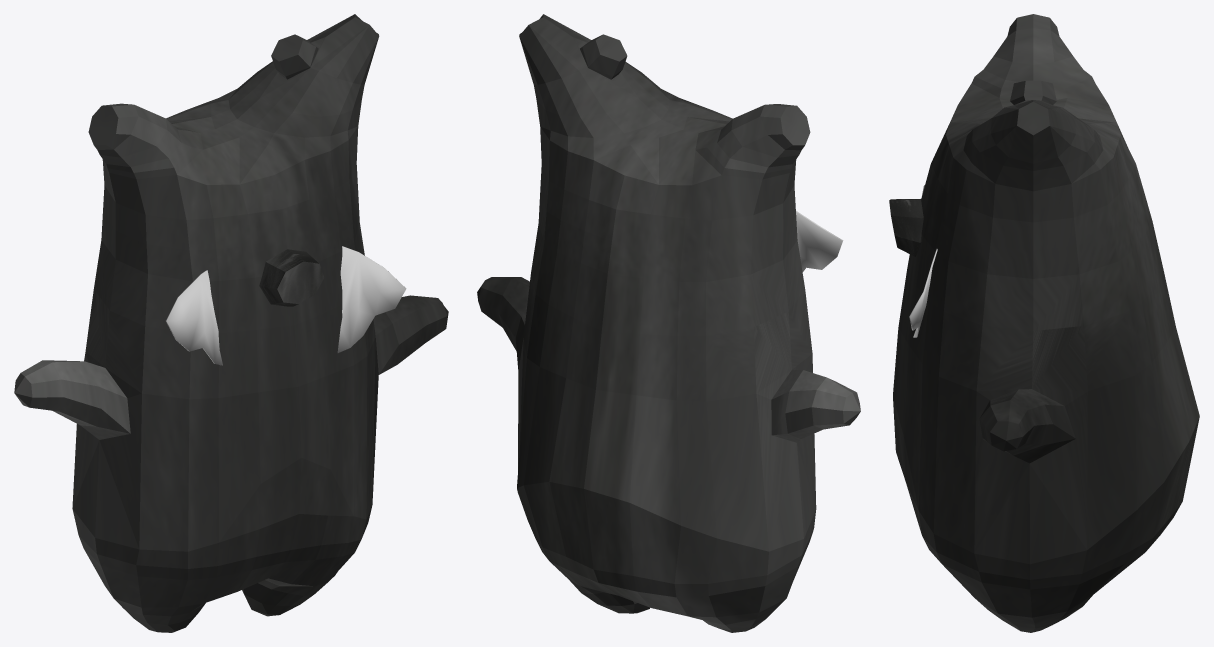
Rendered from frame_0005.obj.
3 renders of one model, left to right at view 1: azimuth 30°, elevation 25°; view 2: azimuth 150°, elevation 25°; view 3: azimuth 270°, elevation 25°, orthographic.
Visible parts, largest first — view 1: korok, leaf, nose; view 2: korok, leaf; view 3: korok, nose, leaf.
Boxes of the visible parts, box(x1,y1,x2,y2) form: korok: box(14, 14, 448, 632); leaf: box(166, 246, 406, 365); nose: box(259, 249, 324, 306); korok: box(477, 14, 860, 632); leaf: box(796, 211, 843, 271); korok: box(893, 14, 1199, 632); nose: box(889, 199, 923, 256); leaf: box(909, 185, 937, 337).
Size of the model in its own units: 1.78 by 2.39 by 1.18.
